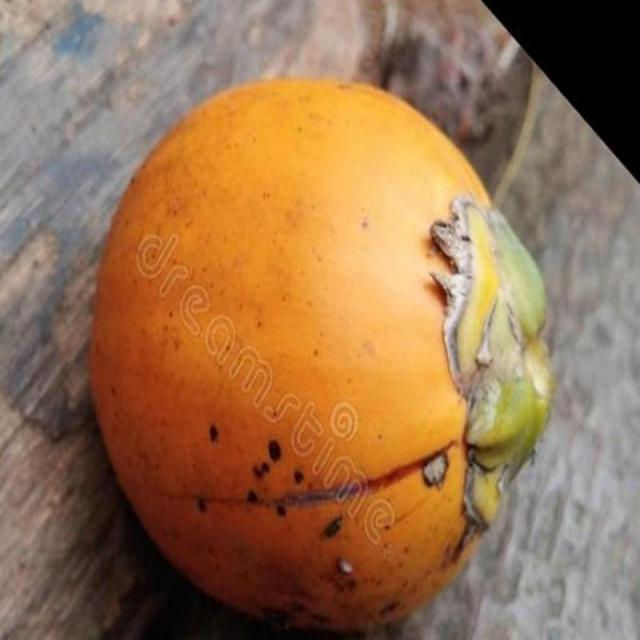good: (88, 78, 557, 636)
